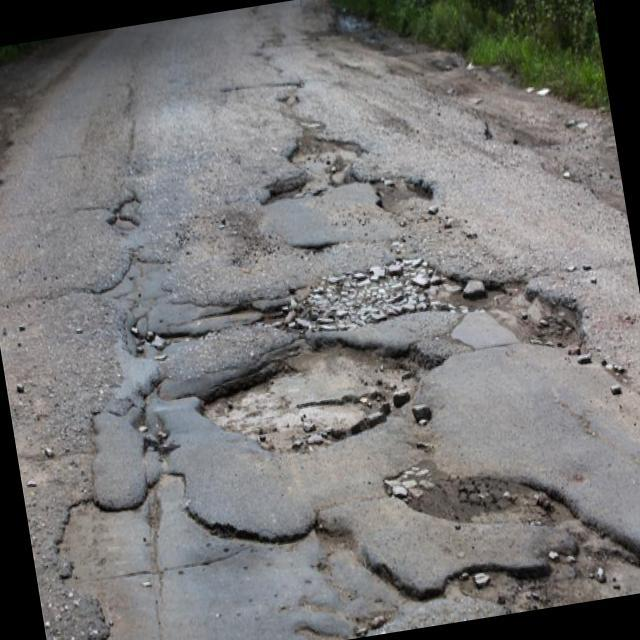Pothole: (62, 414, 640, 640), (291, 178, 580, 353), (203, 343, 429, 454), (290, 130, 358, 205)
